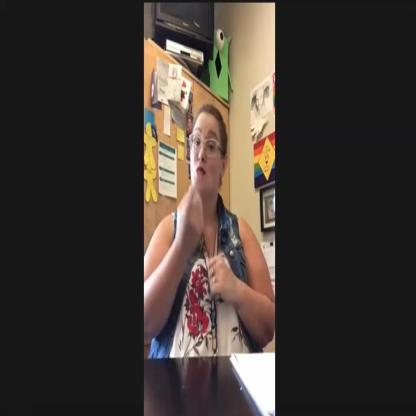HowAreYou: (167, 181, 239, 308)
